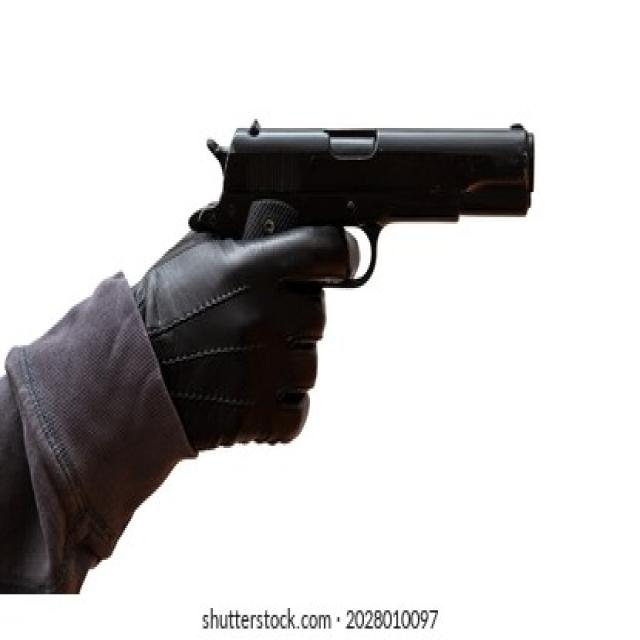HandGun: (190, 121, 535, 286)
